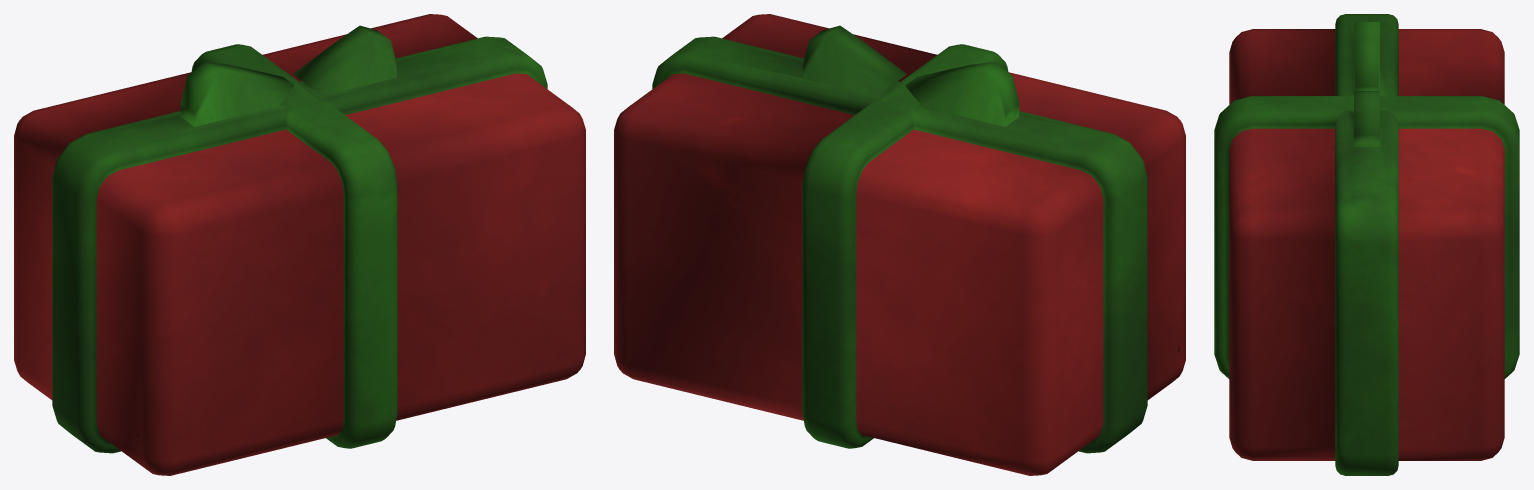
File: Presente_G_vermelho.fbx
3 renders of one model, left to right at view 1: azimuth 30°, elevation 25°; view 2: azimuth 150°, elevation 25°; view 3: azimuth 270°, elevation 25°, orthographic. The views are drawn at different scales.
Visible parts, largest first — view 1: Presente_G_vermelho; view 2: Presente_G_vermelho; view 3: Presente_G_vermelho.
Boxes of the visible parts, x1,y1,x2,y2 form: Presente_G_vermelho: (14, 14, 585, 475); Presente_G_vermelho: (614, 14, 1185, 475); Presente_G_vermelho: (1214, 14, 1519, 475).
Bounding box in the file's own units: 47.04 × 33.49 × 28.83.
1 material, 1 textured.
